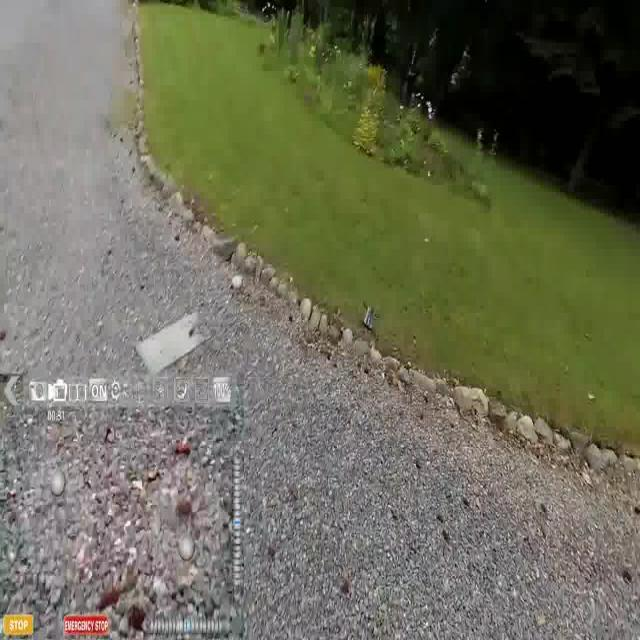drones: (360, 299, 382, 337)
